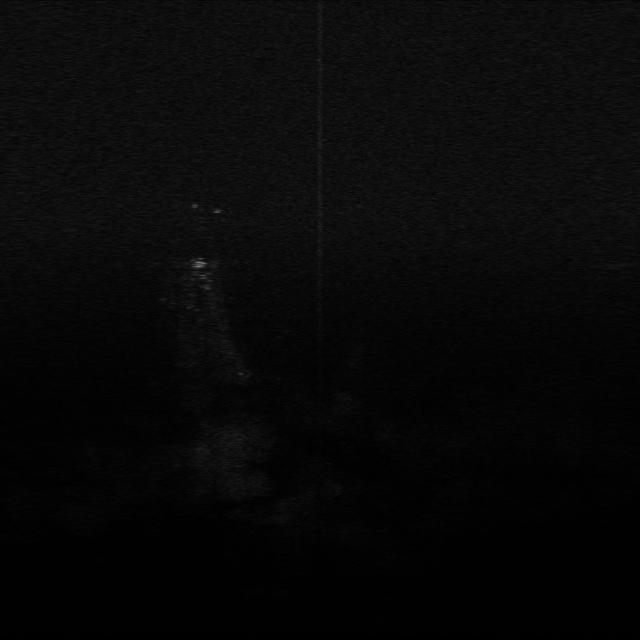rov: (190, 256, 210, 275)
